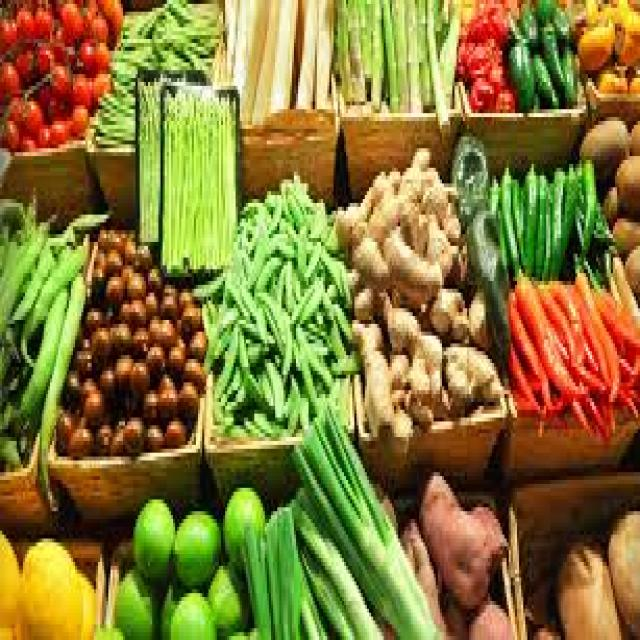biodegradable: (290, 406, 434, 636), (415, 460, 509, 605), (290, 488, 381, 636), (163, 78, 234, 265), (36, 269, 84, 511), (540, 281, 602, 437), (17, 238, 90, 363), (513, 269, 582, 398), (2, 285, 67, 421), (0, 211, 63, 336), (502, 285, 561, 417), (202, 297, 261, 429), (138, 70, 184, 234), (553, 527, 619, 636), (242, 511, 294, 636), (379, 293, 442, 394), (398, 507, 446, 636), (223, 273, 298, 355), (277, 504, 323, 636), (19, 535, 79, 636), (573, 273, 619, 398), (244, 363, 323, 429), (238, 176, 294, 266), (352, 316, 392, 441), (388, 328, 438, 425), (0, 183, 35, 319), (388, 304, 438, 398), (442, 336, 502, 410), (171, 504, 221, 586), (152, 23, 221, 82), (607, 507, 638, 636), (384, 227, 438, 301), (231, 0, 265, 117), (221, 480, 265, 570), (129, 492, 171, 585), (429, 277, 486, 343), (204, 554, 248, 636), (578, 110, 628, 180), (503, 340, 547, 418), (6, 242, 52, 316), (450, 129, 486, 222), (233, 324, 271, 410), (113, 562, 157, 636), (567, 281, 603, 367), (550, 273, 584, 363), (467, 199, 498, 297), (592, 285, 638, 351), (348, 215, 386, 293), (319, 297, 356, 375), (419, 164, 457, 238), (425, 211, 465, 281), (288, 168, 325, 242), (248, 0, 271, 117), (435, 0, 460, 105), (267, 0, 292, 105), (363, 164, 398, 238), (90, 82, 134, 140), (0, 527, 23, 636), (165, 585, 213, 636), (396, 180, 427, 258), (312, 0, 335, 105), (398, 137, 436, 199), (292, 0, 315, 101), (600, 289, 638, 347), (390, 0, 409, 113), (577, 16, 613, 74), (488, 172, 509, 269), (111, 39, 163, 78), (333, 179, 365, 242), (286, 277, 319, 336), (500, 160, 517, 273), (423, 0, 440, 113), (344, 0, 363, 101), (455, 31, 499, 74), (525, 578, 557, 636), (540, 16, 565, 90), (213, 324, 238, 398), (405, 0, 421, 113), (414, 0, 431, 105), (467, 597, 511, 636), (578, 156, 594, 262), (559, 160, 575, 265), (530, 39, 557, 101), (509, 32, 532, 102), (613, 152, 638, 215), (613, 351, 638, 414), (319, 246, 348, 300), (613, 0, 638, 62), (296, 336, 327, 386), (121, 0, 165, 35), (56, 203, 113, 230), (164, 0, 221, 27), (548, 156, 561, 273), (473, 0, 511, 39), (296, 222, 321, 281), (379, 0, 393, 105), (369, 0, 383, 105), (521, 156, 534, 269), (609, 207, 638, 257), (261, 351, 282, 418), (488, 266, 507, 340), (334, 0, 348, 98), (438, 589, 467, 636), (75, 566, 94, 636), (296, 343, 315, 410), (544, 176, 557, 273), (532, 172, 544, 277), (63, 363, 86, 417), (461, 8, 496, 43), (173, 375, 198, 422), (11, 0, 36, 47), (90, 324, 111, 378), (467, 67, 496, 106), (63, 418, 92, 457), (55, 0, 84, 39), (80, 0, 109, 39), (515, 0, 538, 47), (152, 371, 175, 418), (511, 172, 523, 262), (0, 426, 27, 465), (44, 55, 71, 94), (350, 277, 375, 316), (223, 0, 236, 74), (94, 0, 121, 35), (356, 0, 369, 70), (163, 332, 184, 375), (79, 297, 102, 336), (594, 62, 626, 90), (113, 355, 132, 402), (0, 59, 19, 106), (159, 410, 184, 445), (119, 414, 144, 449), (159, 582, 175, 636), (190, 269, 225, 293), (175, 297, 202, 328), (579, 0, 615, 23), (559, 39, 573, 98), (482, 55, 503, 94), (84, 383, 103, 426), (71, 332, 90, 375), (67, 98, 86, 141), (98, 363, 115, 410), (80, 39, 109, 66), (146, 312, 173, 340), (600, 180, 615, 230), (144, 344, 163, 383), (129, 355, 148, 394), (104, 270, 123, 309), (33, 0, 52, 39), (623, 246, 638, 293), (0, 8, 15, 55), (184, 328, 209, 355), (550, 0, 569, 35), (113, 320, 132, 355), (90, 67, 109, 102), (182, 355, 205, 383), (88, 250, 111, 277), (131, 324, 148, 359), (23, 94, 40, 129), (52, 406, 67, 445), (36, 39, 52, 74), (71, 70, 90, 98), (31, 117, 48, 148), (90, 621, 125, 636), (121, 227, 133, 270), (494, 82, 513, 109), (15, 47, 34, 74), (108, 222, 125, 250), (125, 261, 142, 289), (106, 418, 121, 449), (156, 289, 175, 312), (136, 242, 150, 273), (4, 94, 19, 121), (627, 117, 638, 152), (144, 425, 160, 449), (46, 117, 62, 141), (115, 293, 129, 320), (221, 624, 252, 636), (94, 418, 106, 449), (2, 117, 17, 141), (127, 293, 140, 320), (106, 250, 121, 273), (534, 0, 555, 16), (144, 257, 156, 285), (142, 289, 156, 312), (17, 129, 33, 148), (158, 277, 173, 297), (177, 281, 188, 308), (625, 70, 638, 90), (96, 226, 106, 246)
